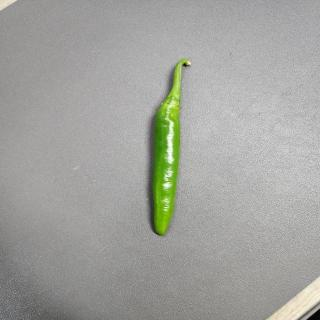Cabai Hijau: (152, 59, 192, 237)
